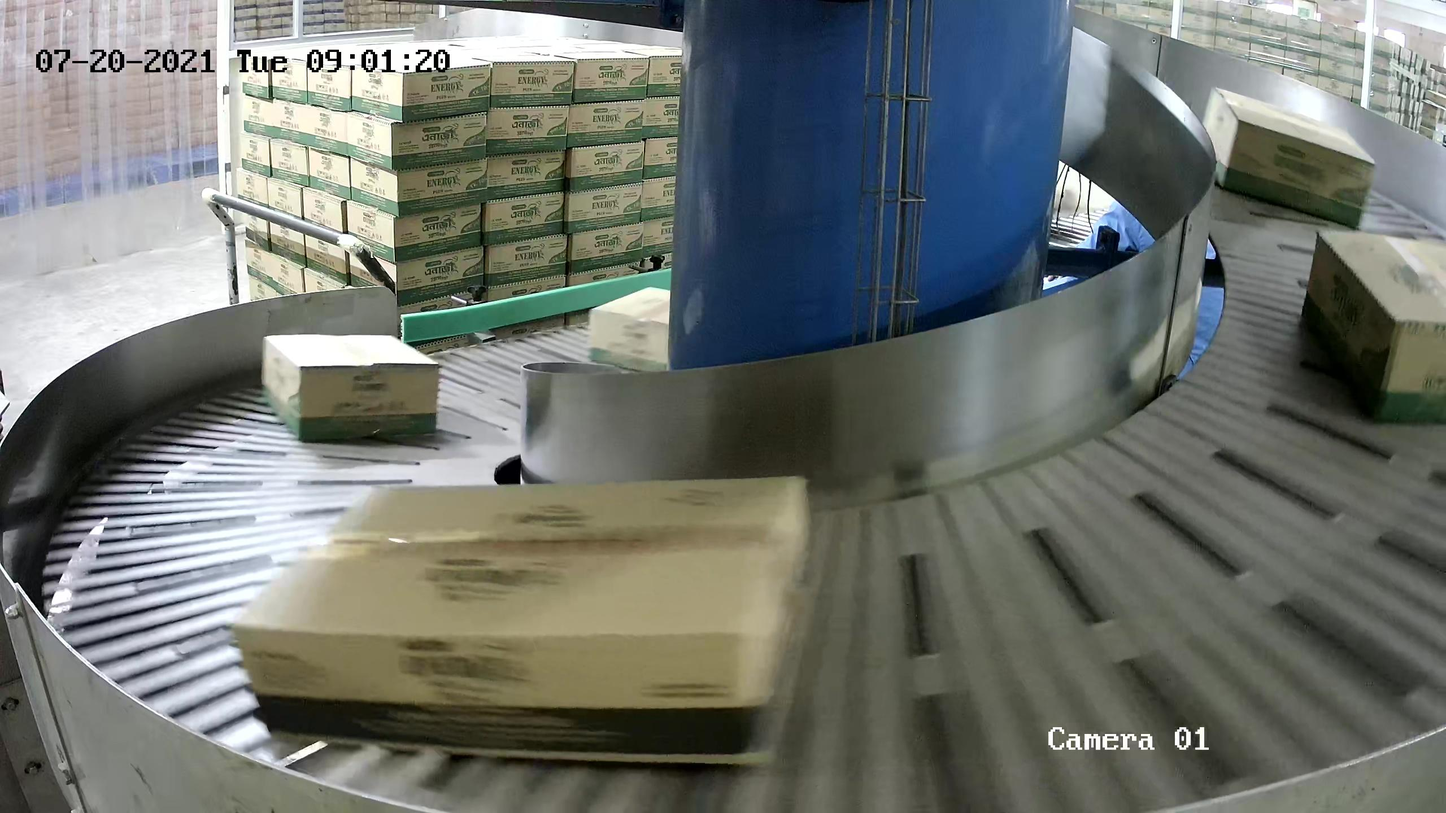Box: (229, 472, 817, 771), (1299, 226, 1446, 425), (1200, 85, 1377, 230), (259, 332, 441, 444), (587, 285, 671, 373)
